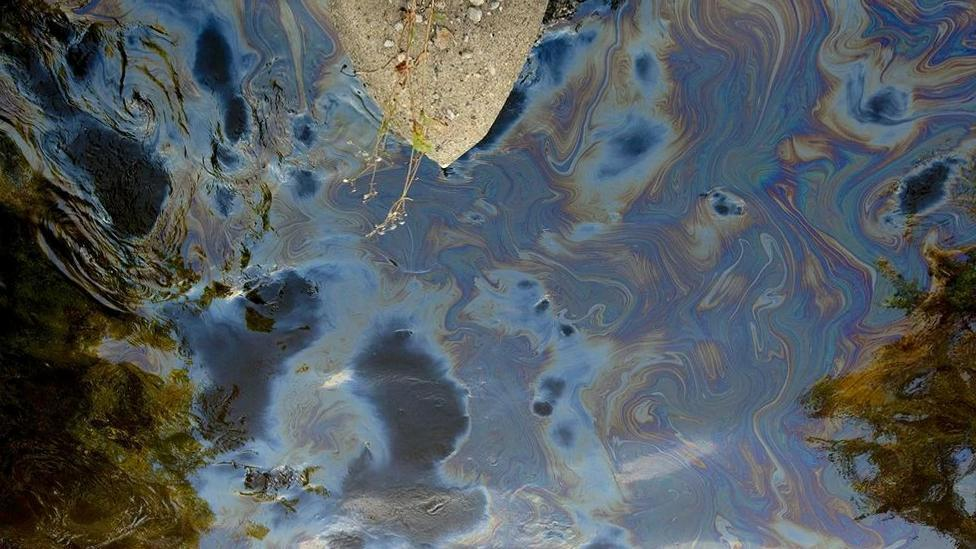Oil Pollution: (5, 0, 976, 549)
